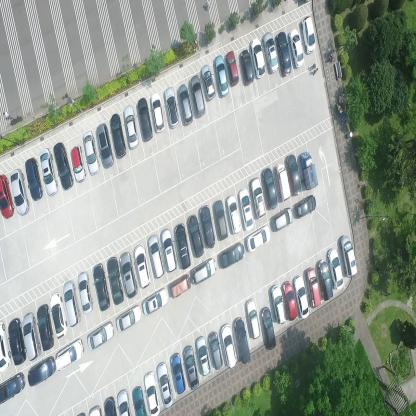car: (53, 142, 74, 191), (54, 338, 84, 372), (39, 148, 59, 198), (118, 250, 138, 300), (22, 312, 42, 362), (10, 168, 30, 216), (7, 318, 27, 366), (27, 354, 55, 388), (233, 317, 252, 365), (92, 262, 110, 312), (49, 293, 68, 340), (96, 121, 114, 170), (36, 303, 54, 352), (63, 280, 81, 328), (87, 319, 114, 351), (24, 157, 43, 202), (107, 255, 124, 305), (82, 130, 100, 177), (147, 233, 165, 279), (133, 243, 151, 289), (0, 371, 25, 404), (339, 234, 358, 277), (174, 222, 191, 270), (221, 322, 238, 370), (292, 273, 309, 320), (142, 371, 160, 415), (142, 287, 169, 316), (156, 361, 173, 407), (262, 31, 280, 74), (160, 227, 176, 275), (275, 32, 292, 77), (136, 97, 153, 142), (187, 212, 204, 257), (182, 345, 199, 390), (316, 258, 334, 300), (123, 104, 139, 151), (200, 203, 216, 250), (163, 86, 180, 130), (327, 246, 344, 290), (169, 351, 186, 395), (300, 149, 318, 190), (110, 113, 126, 159), (249, 37, 266, 80), (189, 75, 206, 118), (250, 176, 267, 219), (219, 241, 244, 270), (116, 304, 141, 333), (262, 166, 278, 210), (77, 270, 93, 314), (260, 306, 276, 350), (274, 162, 291, 203), (0, 173, 15, 219), (288, 27, 304, 70), (213, 55, 229, 98), (178, 82, 194, 125), (286, 153, 302, 196), (246, 225, 271, 252), (238, 186, 254, 228), (282, 280, 298, 322), (150, 90, 165, 134), (270, 284, 286, 325), (69, 146, 86, 184), (301, 15, 317, 55), (306, 267, 322, 307), (246, 298, 261, 340), (192, 258, 216, 284), (0, 319, 12, 370), (227, 194, 242, 234), (208, 330, 223, 370), (214, 198, 228, 240), (201, 63, 216, 102), (196, 335, 210, 376), (295, 194, 317, 220), (224, 50, 239, 88), (170, 272, 190, 300), (271, 207, 294, 231), (239, 50, 254, 86), (131, 386, 147, 416), (116, 388, 132, 415), (102, 396, 117, 415)
